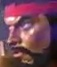ryu: (2, 0, 51, 62)
